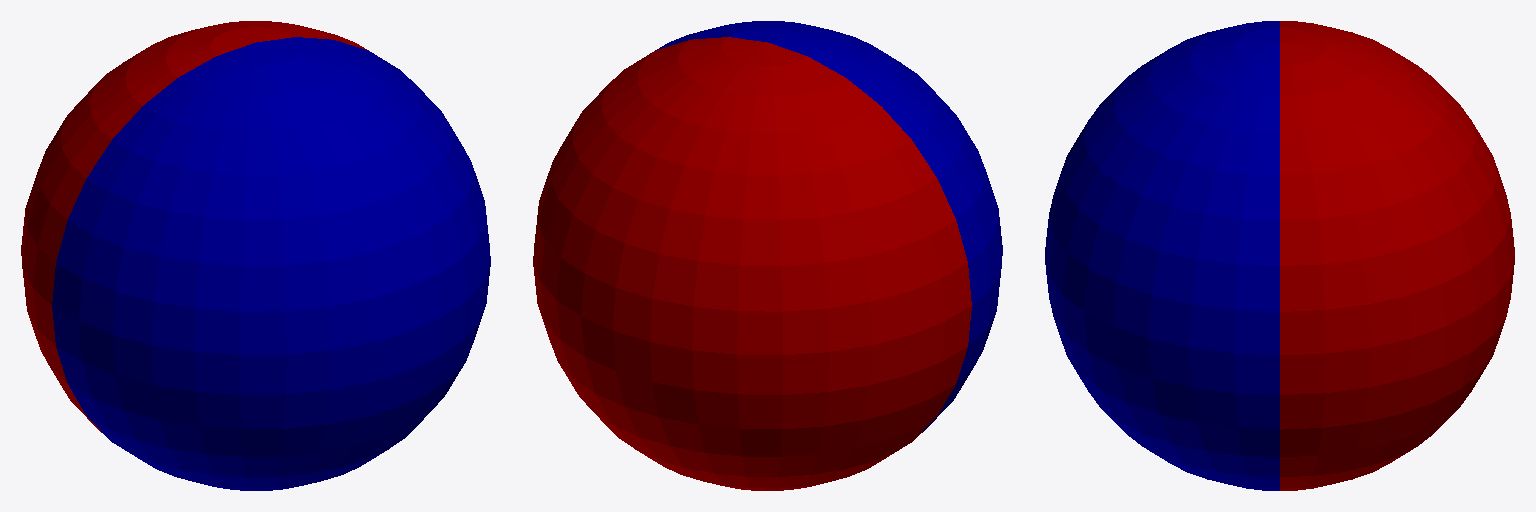
File: sphere_fsmooth.obj
3 views of the same model, side by side, from view 1: azimuth 30°, elevation 25°; view 2: azimuth 150°, elevation 25°; view 3: azimuth 270°, elevation 25° (orthographic).
Parts seen in each view (by area): view 1: Mesh_Sphere; view 2: Mesh_Sphere; view 3: Mesh_Sphere.
Boxes of the visible parts, box(x1,y1,x2,y2) form: Mesh_Sphere: box(21, 21, 490, 490); Mesh_Sphere: box(533, 21, 1002, 490); Mesh_Sphere: box(1045, 21, 1514, 490).
Bounding box in the file's own units: 2 × 2 × 2.